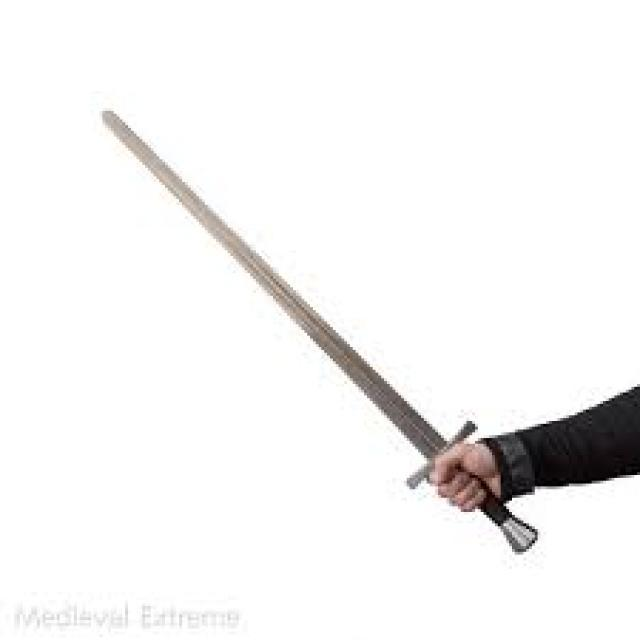sword: (86, 94, 556, 564)
